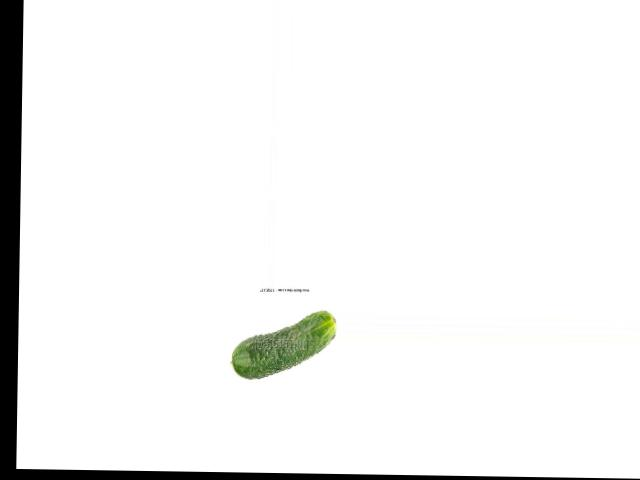cucumber: (230, 309, 335, 380)
